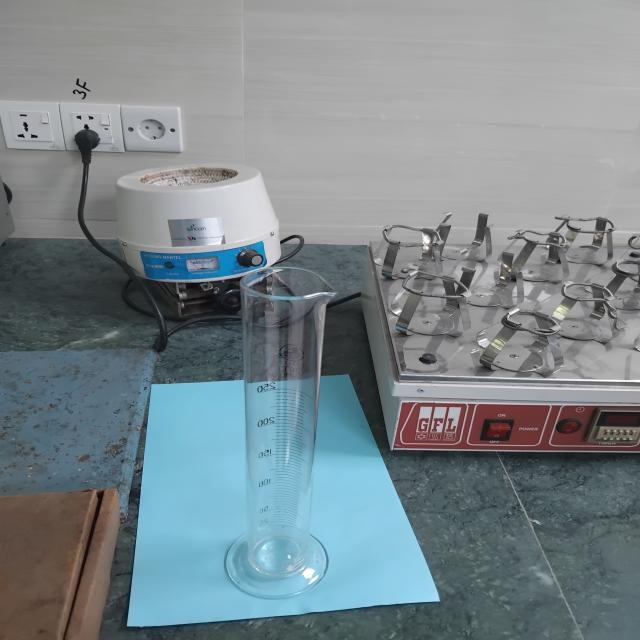Measuring_Cylinder: (182, 233, 367, 640)
